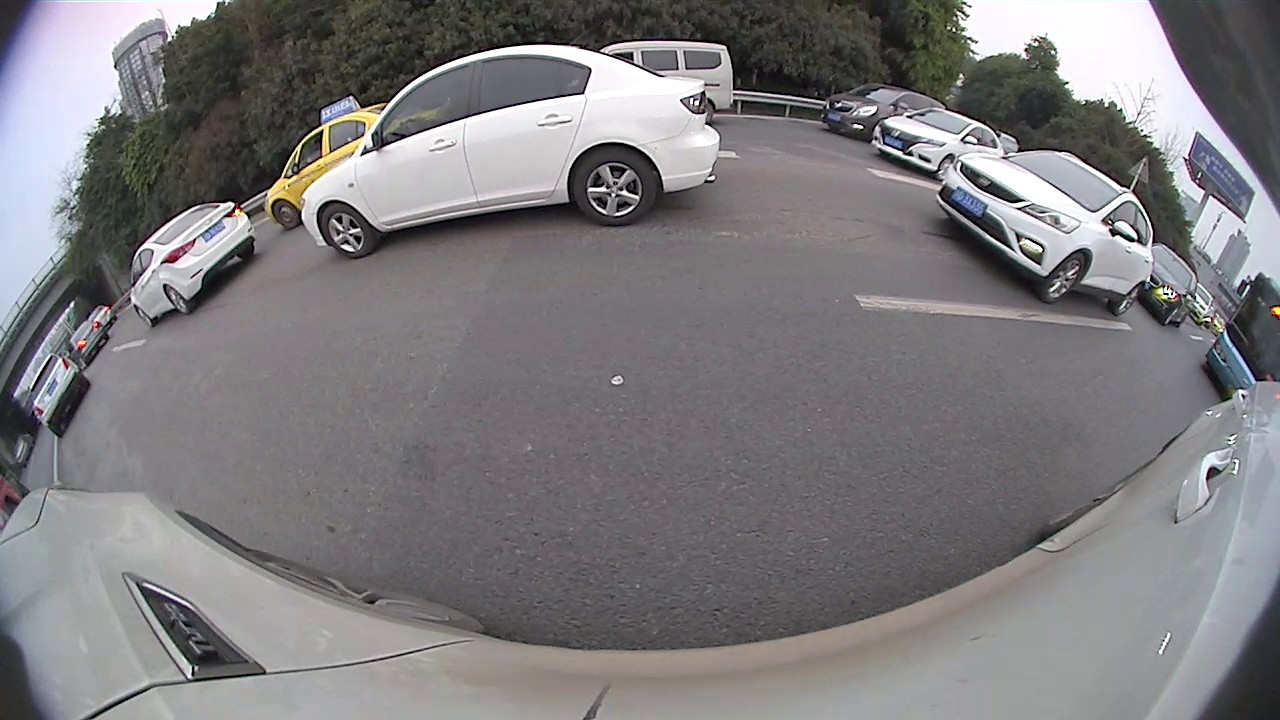bus: (1201, 267, 1279, 400)
car: (297, 42, 725, 263), (934, 147, 1159, 316), (261, 96, 393, 229), (125, 197, 257, 330), (599, 41, 735, 125), (868, 105, 1012, 179), (818, 79, 946, 141), (24, 350, 97, 440), (1147, 240, 1197, 327), (65, 315, 111, 370)
front: (319, 201, 376, 261), (1037, 250, 1086, 305), (272, 198, 302, 231), (933, 153, 956, 182), (134, 305, 157, 330)
rear: (568, 144, 664, 230), (1109, 281, 1144, 316), (164, 283, 193, 316)
